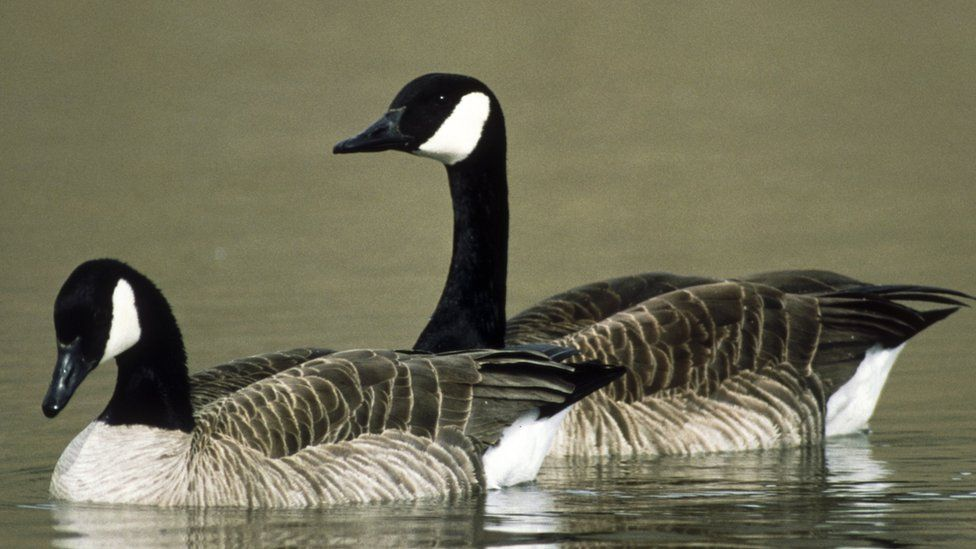goose: (328, 68, 976, 463), (39, 254, 634, 511)
